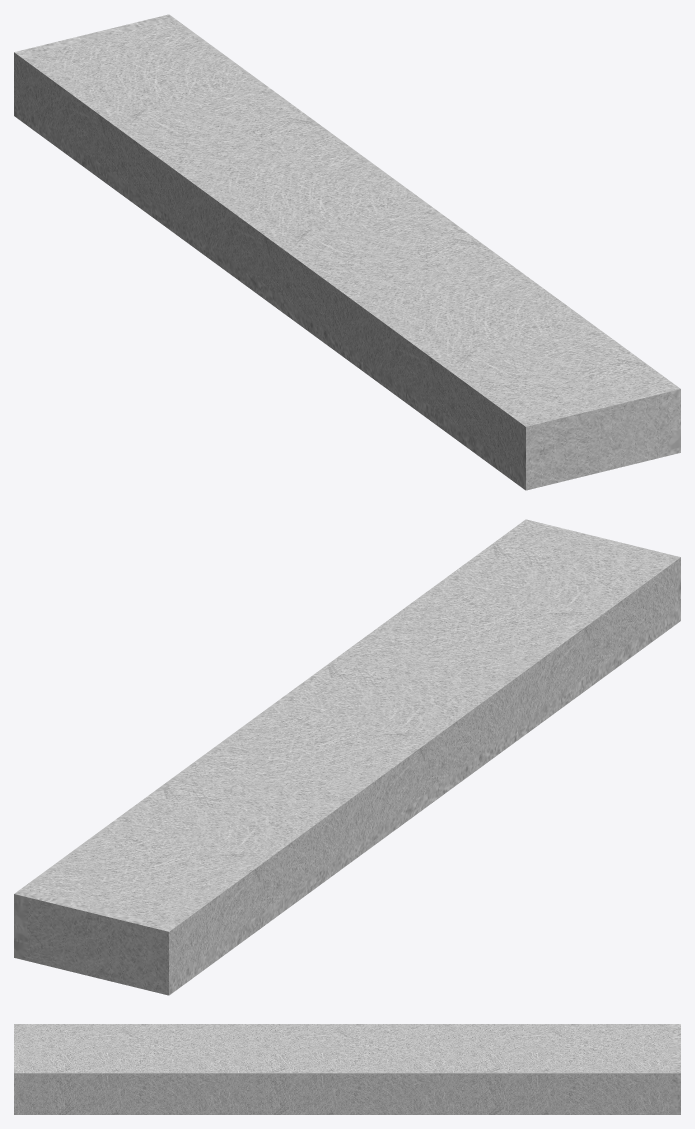
Rendered from ceiling_lamp.fbx.
3 renders of one model, top to bottom at view 1: azimuth 30°, elevation 25°; view 2: azimuth 150°, elevation 25°; view 3: azimuth 270°, elevation 25°, orthographic. The views are drawn at different scales.
Parts seen in each view (by area): view 1: короб 1; view 2: короб 1; view 3: короб 1.
Boxes of the visible parts, left/top/right/bottom form: короб 1: left=14, top=14, right=680, bottom=490; короб 1: left=14, top=519, right=680, bottom=995; короб 1: left=14, top=1024, right=680, bottom=1114.
Bounding box in the file's own units: 14 × 5.5 × 80.
